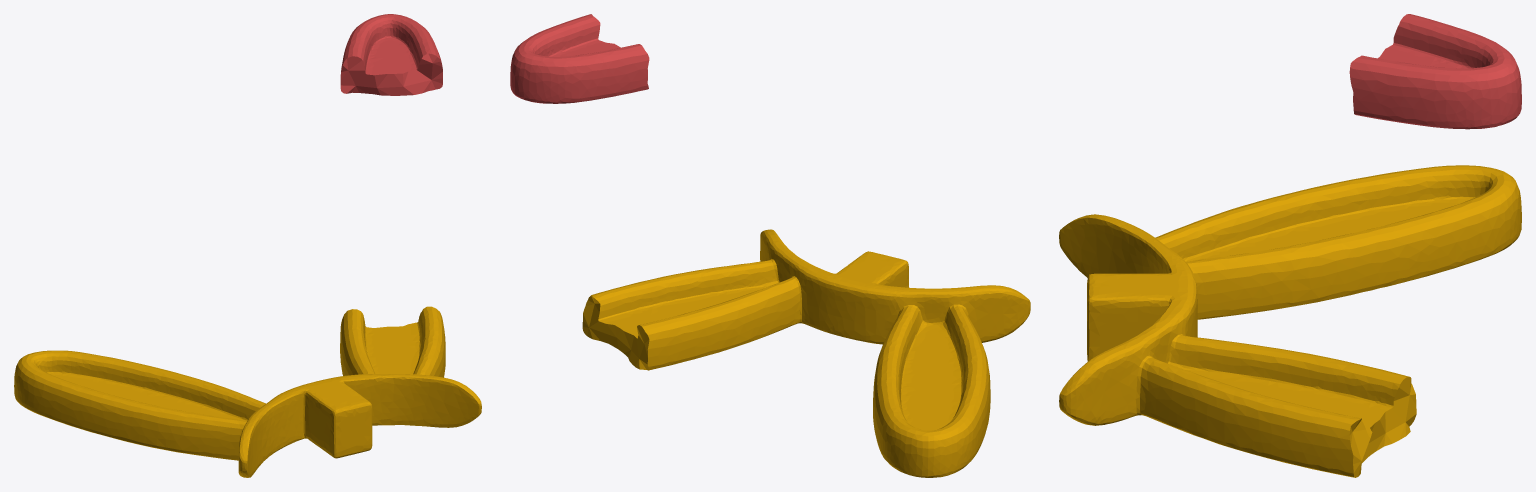
The model's file is fractured_14_2pcs_transformed.glb.
3 views of the same model, side by side, from view 1: azimuth 30°, elevation 25°; view 2: azimuth 150°, elevation 25°; view 3: azimuth 270°, elevation 25° (orthographic). The views are drawn at different scales.
Visible parts, largest first — view 1: piece_0.obj, piece_1.obj; view 2: piece_0.obj, piece_1.obj; view 3: piece_0.obj, piece_1.obj.
Part boxes in pixels (bbox=[...]): piece_0.obj: bbox=[14, 306, 481, 477]; piece_1.obj: bbox=[340, 14, 442, 95]; piece_0.obj: bbox=[582, 229, 1030, 477]; piece_1.obj: bbox=[510, 14, 649, 103]; piece_0.obj: bbox=[1059, 165, 1521, 477]; piece_1.obj: bbox=[1349, 14, 1521, 129].
Bounding box in the file's own units: 1 × 0.6912 × 0.6933.
